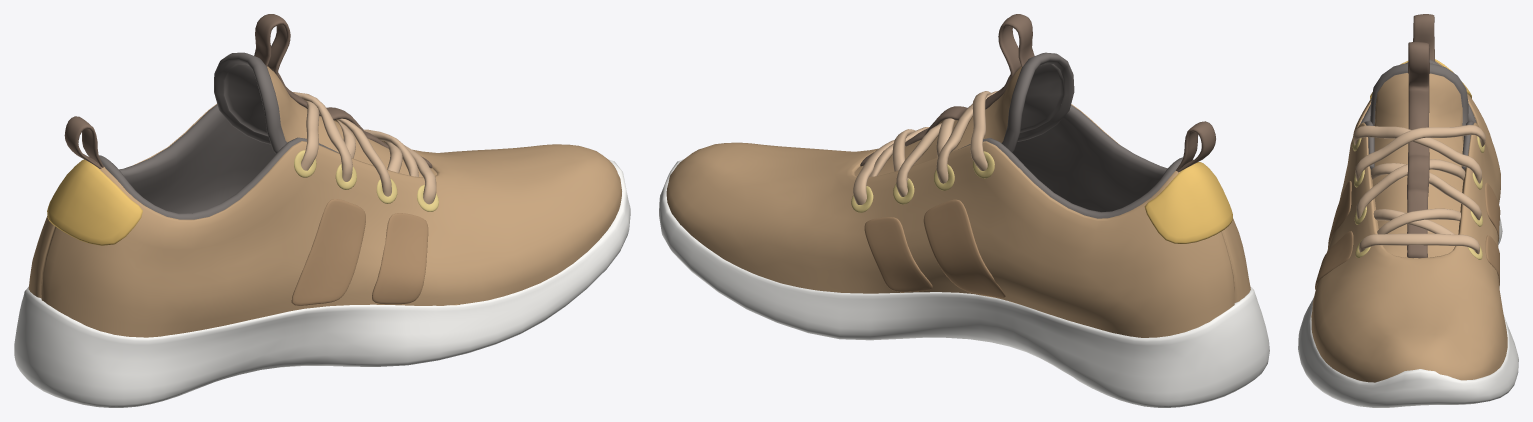
Rendered from af1-mocha.glb.
3 views of the same model, side by side, from view 1: azimuth 30°, elevation 25°; view 2: azimuth 150°, elevation 25°; view 3: azimuth 270°, elevation 25° (orthographic). The views are drawn at different scales.
Parts seen in each view (by area): view 1: Shoe; view 2: Shoe; view 3: Shoe.
Boxes of the visible parts, x1,y1,x2,y2 form: Shoe: (14,14,630,407); Shoe: (659,14,1269,407); Shoe: (1298,14,1518,407).
Size of the model in its own units: 2 by 1.03 by 0.7777.
